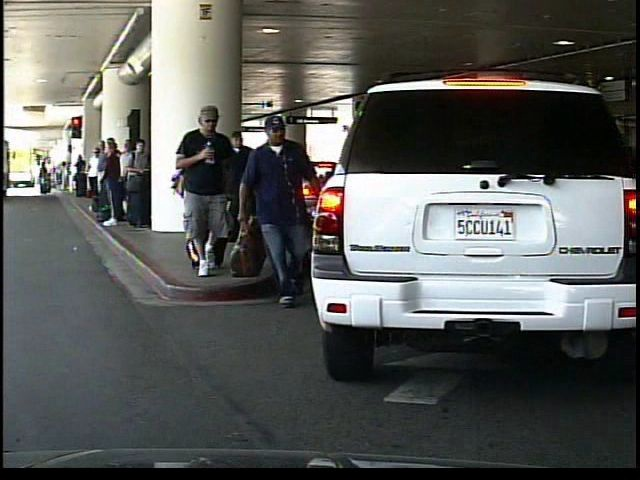person: (239, 104, 315, 307), (176, 105, 238, 278), (225, 136, 264, 244)
